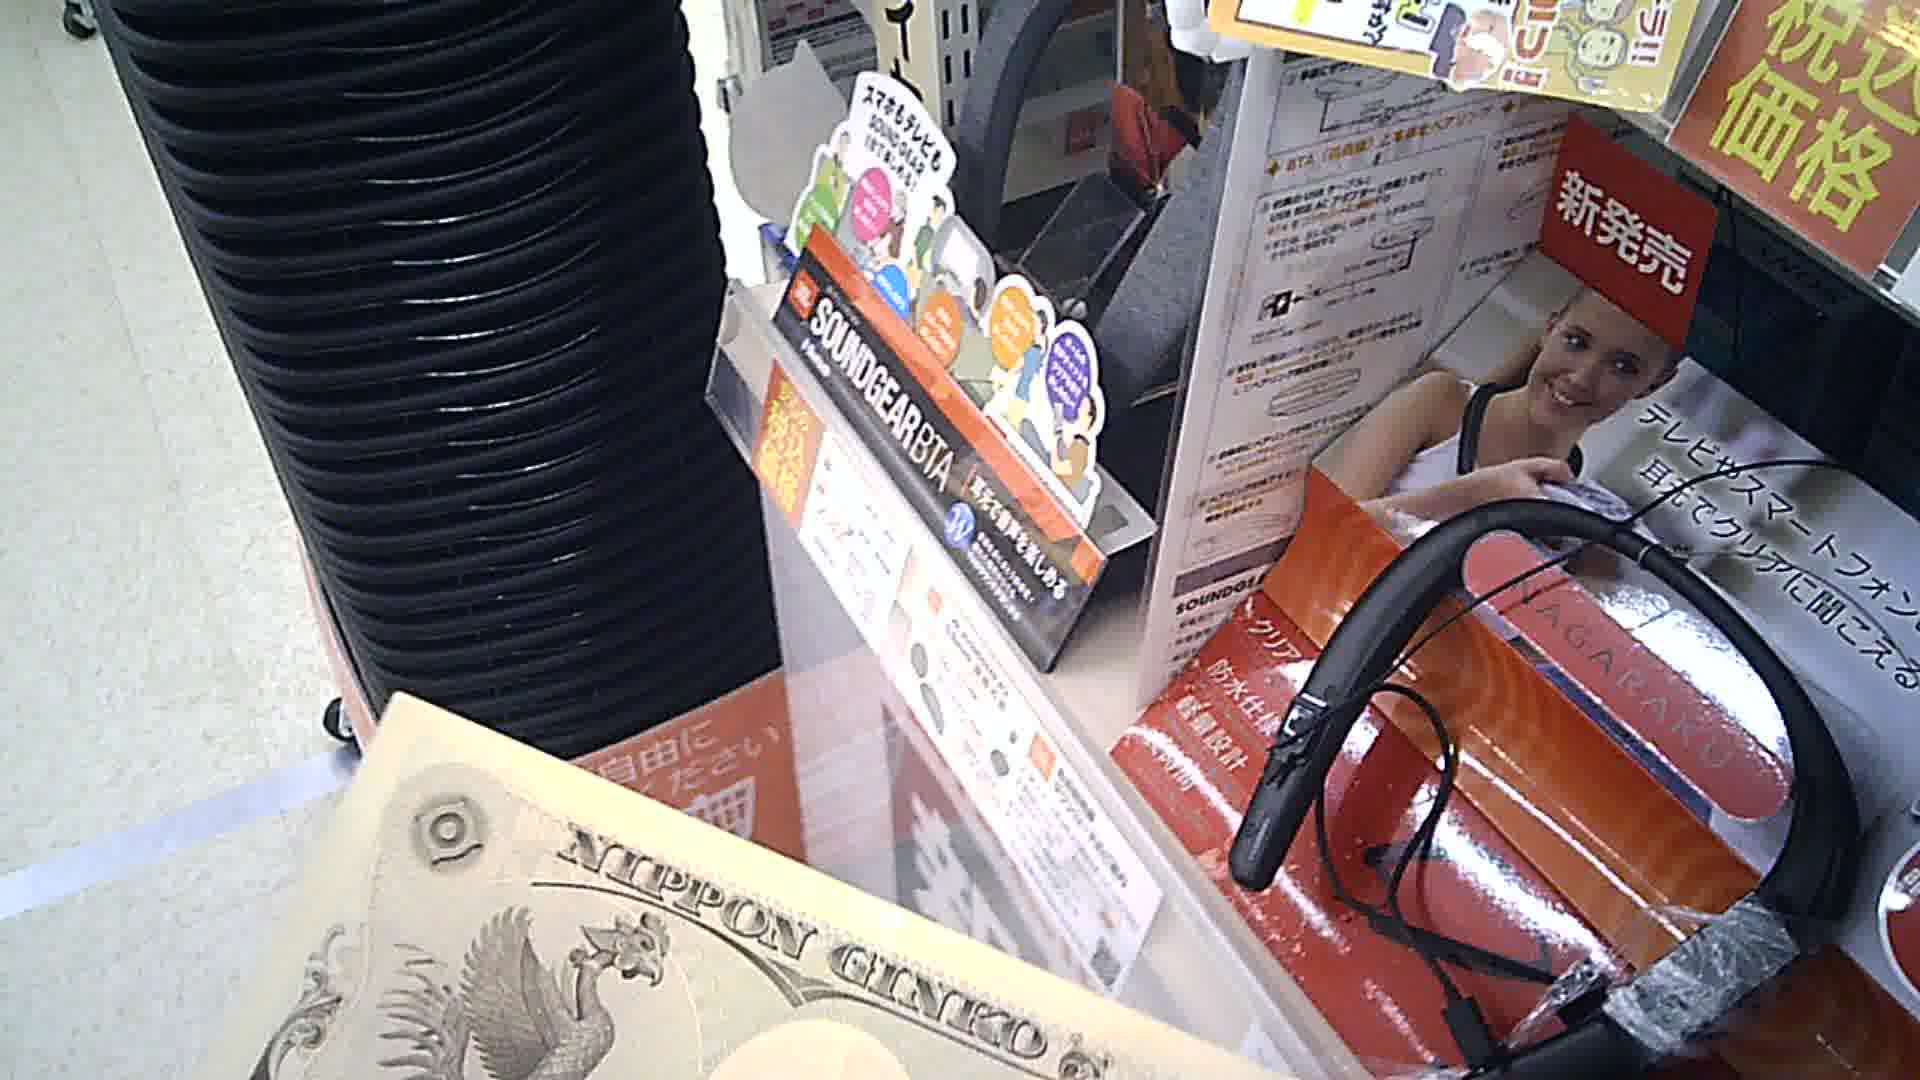10,000 Yen: (157, 699, 1222, 1079)
